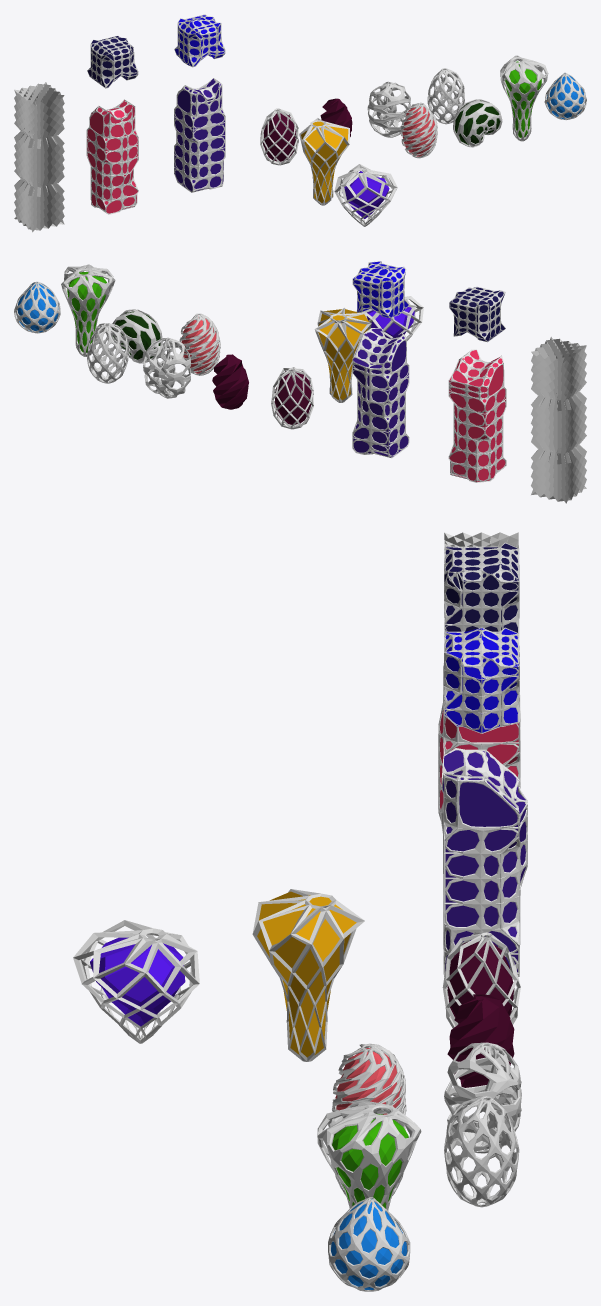
File: structures2.fbx
3 views of the same model, one above another, from view 1: azimuth 30°, elevation 25°; view 2: azimuth 150°, elevation 25°; view 3: azimuth 270°, elevation 25° (orthographic). The views are drawn at different scales.
Visible parts, largest first — view 1: Cube.008, Cube, Cube.004, Cube.010, Cube.006, Cylinder.015, Cylinder.010, Cylinder.008, Cylinder.002, Cylinder.003, Cylinder.011, Cube.014 (+16 smaller); view 2: Cube.008, Cube, Cube.004, Cube.010, Cube.006, Cylinder.002, Cylinder.015, Cylinder.008, Cylinder.003, Cylinder.011, Cube.007, Cube.009 (+16 smaller); view 3: Cube.004, Cube.010, Cylinder.010, Cylinder.008, Cylinder.003, Cylinder.015, Cylinder.011, Cylinder.002, Cube.003, Cube.014, Cube.007, Cylinder.007 (+12 smaller).
Boxes of the visible parts, x1,y1,x2,y2 form: Cube.008: (14,82,64,232); Cube: (87,100,137,213); Cube.004: (174,78,224,191); Cube.010: (174,79,225,191); Cube.006: (87,101,138,213); Cylinder.015: (500,55,548,141); Cylinder.010: (334,164,397,226); Cylinder.008: (301,121,348,202); Cylinder.002: (367,81,410,137); Cylinder.003: (427,68,464,124); Cylinder.011: (299,118,349,205); Cube.014: (174,14,224,66); Cube.008: (531,337,586,503); Cube: (449,350,505,481); Cube.004: (353,328,408,457); Cube.010: (352,328,408,456); Cube.006: (449,350,505,481); Cylinder.002: (143,337,190,398); Cylinder.015: (61,264,115,356); Cylinder.008: (318,309,368,400); Cylinder.003: (87,323,128,383); Cylinder.011: (314,307,371,402); Cube.007: (449,287,505,341); Cube.009: (448,349,506,482); Cube.004: (442,750,526,972); Cube.010: (442,749,527,975); Cylinder.010: (73,920,199,1043); Cylinder.008: (257,891,356,1057); Cylinder.003: (444,1096,519,1207); Cylinder.015: (317,1101,421,1210); Cylinder.011: (252,889,364,1061); Cylinder.002: (444,1042,521,1153); Cube.003: (445,628,518,732); Cube.014: (443,628,519,730); Cube.007: (444,543,518,632); Cylinder.007: (328,1197,410,1291).
Size of the model in its own units: 3313 by 1028 by 1226.
